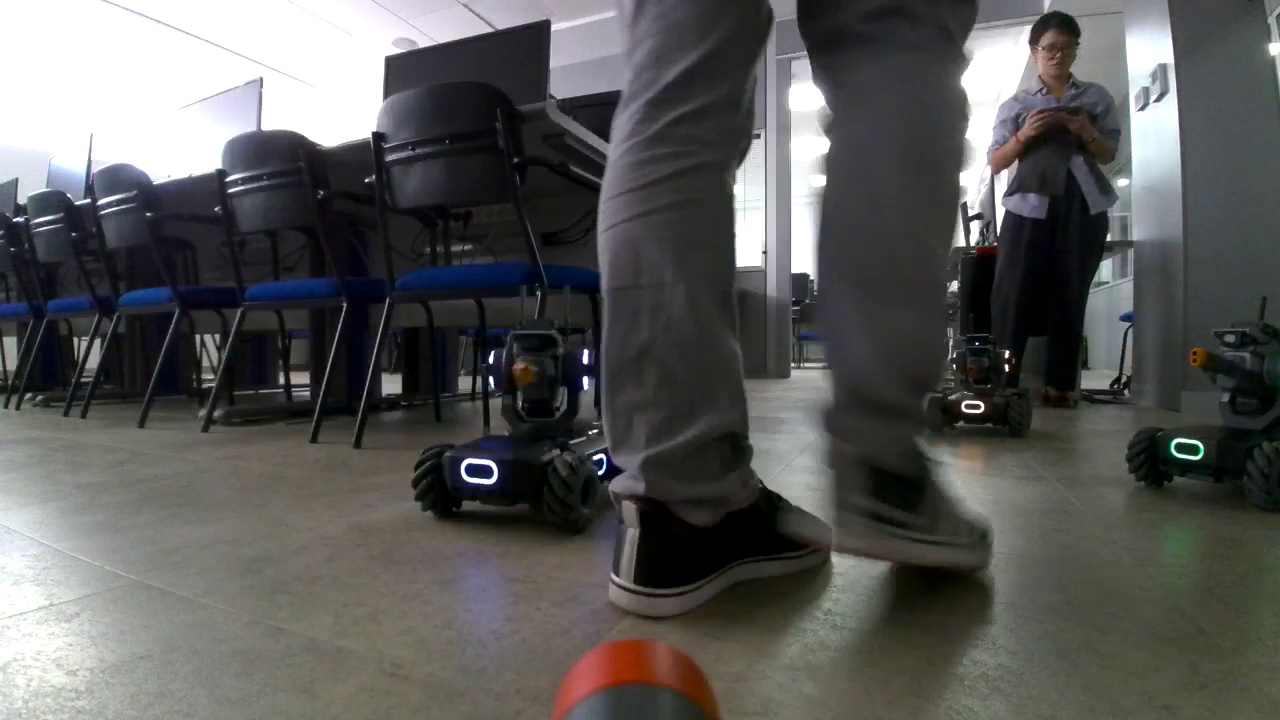robot: (410, 300, 651, 530), (1127, 297, 1280, 510), (919, 333, 1029, 433)
